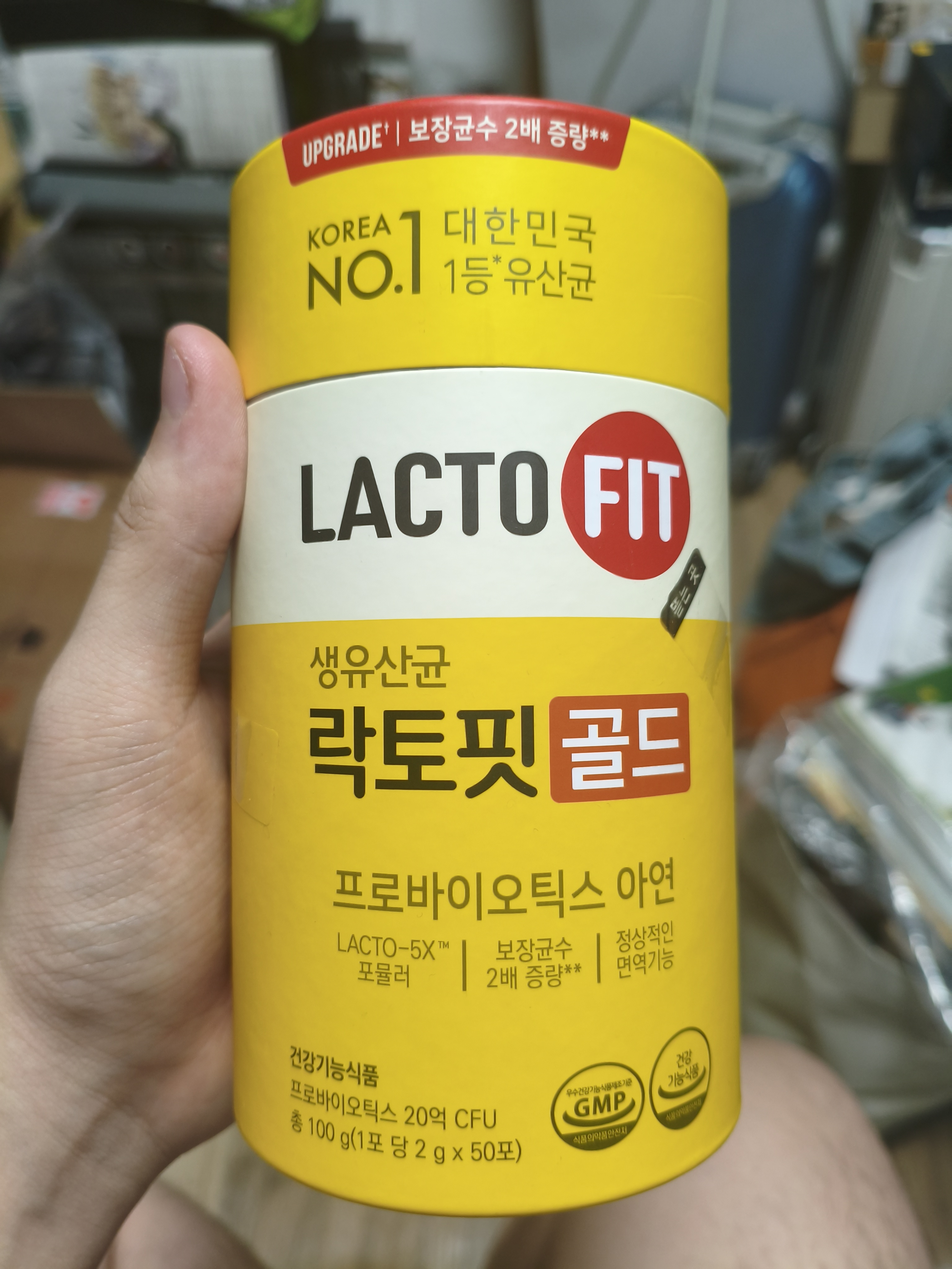supplement_label: (185, 86, 786, 1222)
